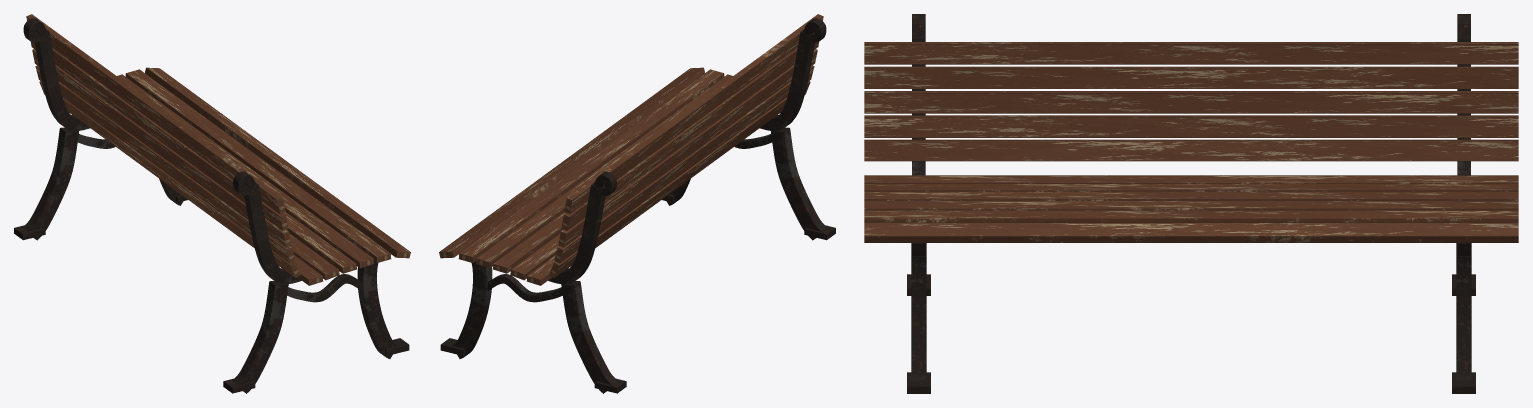
The model's file is bench_park_web.glb.
3 views of the same model, side by side, from view 1: azimuth 30°, elevation 25°; view 2: azimuth 150°, elevation 25°; view 3: azimuth 270°, elevation 25° (orthographic). The views are drawn at different scales.
Visible parts, largest first — view 1: BenchPark_Mesh; view 2: BenchPark_Mesh; view 3: BenchPark_Mesh.
Part boxes in pixels (bbox=[...]): BenchPark_Mesh: bbox=[14, 14, 410, 393]; BenchPark_Mesh: bbox=[439, 14, 835, 393]; BenchPark_Mesh: bbox=[864, 14, 1518, 393].
Size of the model in its own units: 0.78 by 0.9207 by 1.92.
Materials: 2 (2 with a texture image).
